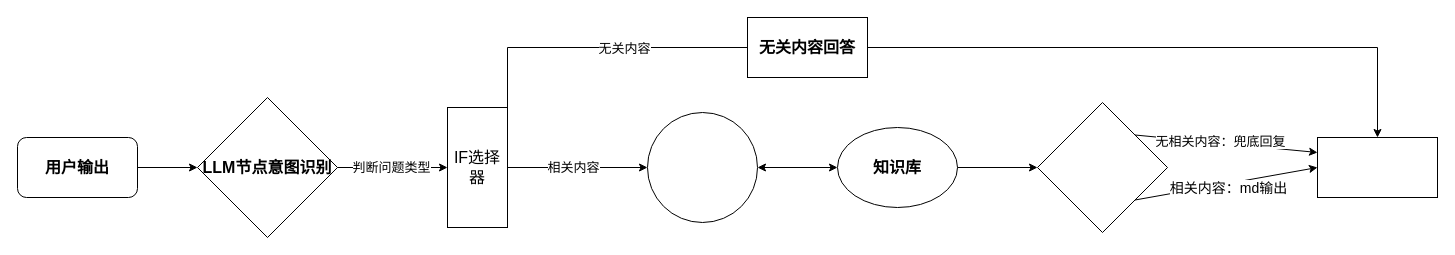
This 1455x255 diagram has some shape labels left out. Here are the shapes that lost their labels. From the top down, the centre of each, then its label:
pixel 702 167: LLM节点：query改写
pixel 1102 167: LLM节点：生成回答
pixel 1377 167: 结束
